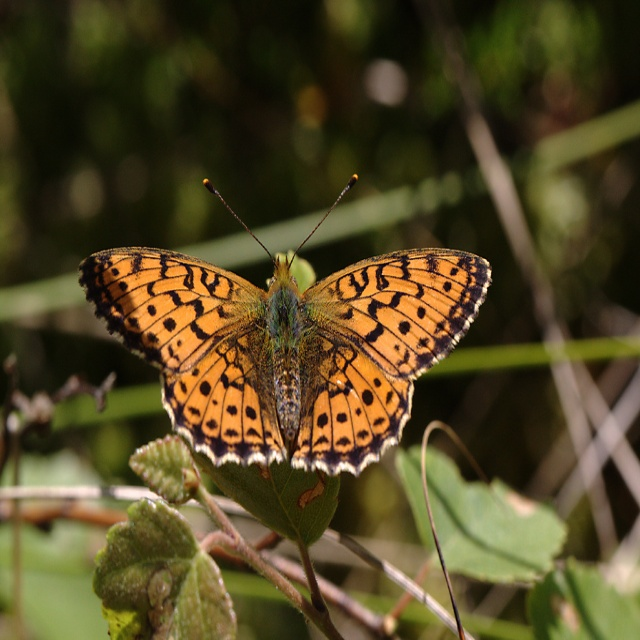Butterfly: (76, 178, 492, 474)
